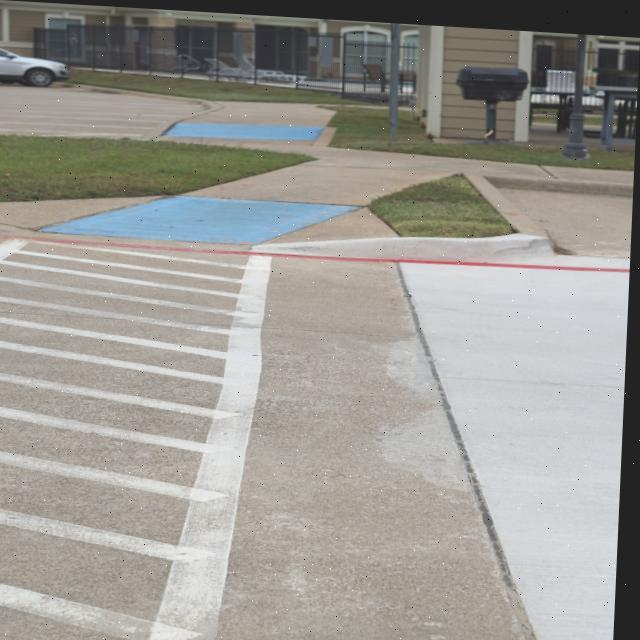Automobile: (0, 48, 70, 86)
Road: (0, 235, 632, 640), (0, 85, 203, 137), (501, 182, 634, 250)
Sidewalk: (0, 99, 635, 242)
